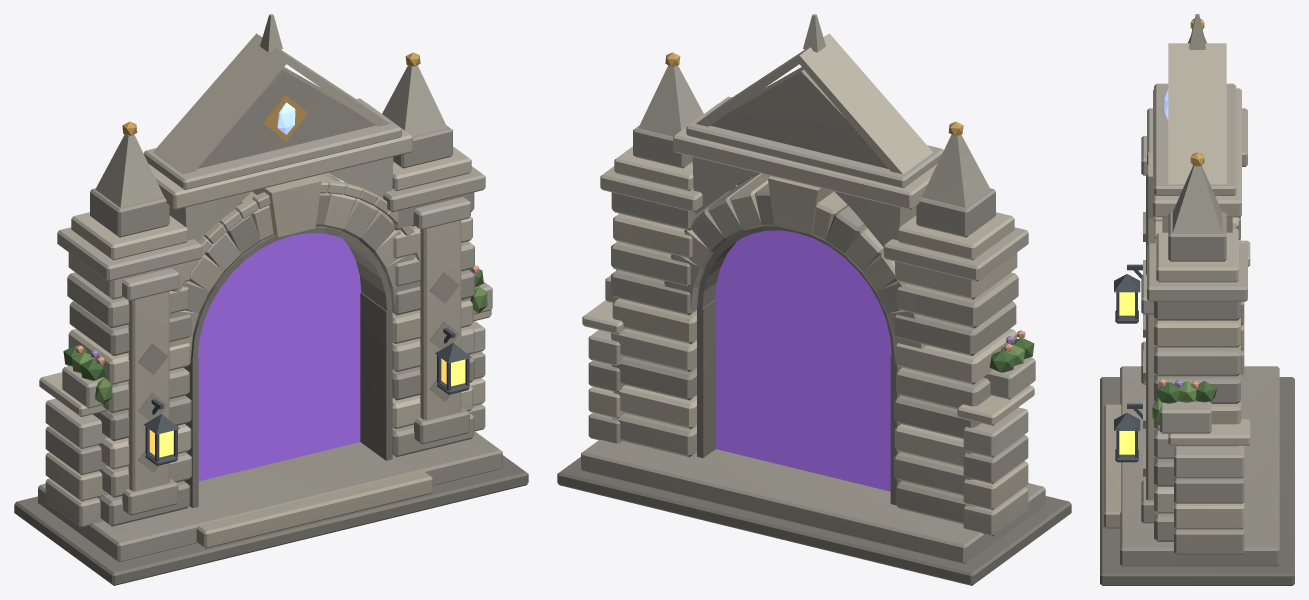
The model's file is dungeon-gate.glb.
The picture shows the model from 3 angles, left to right: view 1: azimuth 30°, elevation 25°; view 2: azimuth 150°, elevation 25°; view 3: azimuth 270°, elevation 25°; orthographic projection. The views are drawn at different scales.
Parts seen in each view (by area): view 1: Structure_HV_stone2, Structure_HV_stone0, Structure_HV_stone1, Facade_HV_portal, Structure_HV_stone_dark, Facade_HV_iron, Structure_HV_brass, Facade_HV_amber_glass, Structure_HV_foliage, Structure_HV_foliage_dark; view 2: Structure_HV_stone0, Structure_HV_stone1, Structure_HV_stone2, Facade_HV_portal, Structure_HV_stone_dark, Structure_HV_foliage_dark; view 3: Structure_HV_stone2, Structure_HV_stone0, Structure_HV_stone1, Structure_HV_stone_dark, Facade_HV_iron, Facade_HV_amber_glass, Structure_HV_foliage_dark, Structure_HV_foliage.
Boxes of the visible parts, bbox=[...] form: Structure_HV_stone2: bbox=[39, 33, 491, 548]; Structure_HV_stone0: bbox=[38, 67, 502, 561]; Structure_HV_stone1: bbox=[45, 14, 492, 527]; Facade_HV_portal: bbox=[198, 233, 361, 481]; Structure_HV_stone_dark: bbox=[14, 226, 528, 585]; Facade_HV_iron: bbox=[143, 328, 471, 465]; Structure_HV_brass: bbox=[122, 52, 420, 141]; Facade_HV_amber_glass: bbox=[149, 358, 465, 457]; Structure_HV_foliage: bbox=[71, 286, 487, 404]; Structure_HV_foliage_dark: bbox=[63, 269, 483, 380]; Structure_HV_stone0: bbox=[581, 67, 1045, 563]; Structure_HV_stone1: bbox=[588, 14, 1035, 536]; Structure_HV_stone2: bbox=[582, 33, 1034, 509]; Facade_HV_portal: bbox=[715, 230, 891, 491]; Structure_HV_stone_dark: bbox=[557, 226, 1071, 585]; Structure_HV_foliage_dark: bbox=[616, 269, 1034, 372]; Structure_HV_stone2: bbox=[1103, 43, 1250, 529]; Structure_HV_stone0: bbox=[1120, 212, 1279, 566]; Structure_HV_stone1: bbox=[1141, 14, 1247, 554]; Structure_HV_stone_dark: bbox=[1100, 377, 1294, 585]; Facade_HV_iron: bbox=[1114, 264, 1142, 462]; Facade_HV_amber_glass: bbox=[1119, 292, 1134, 454]; Structure_HV_foliage_dark: bbox=[1157, 381, 1216, 403]; Structure_HV_foliage: bbox=[1152, 381, 1196, 425].
Bounding box in the file's own units: 4 × 4.45 × 1.66.
